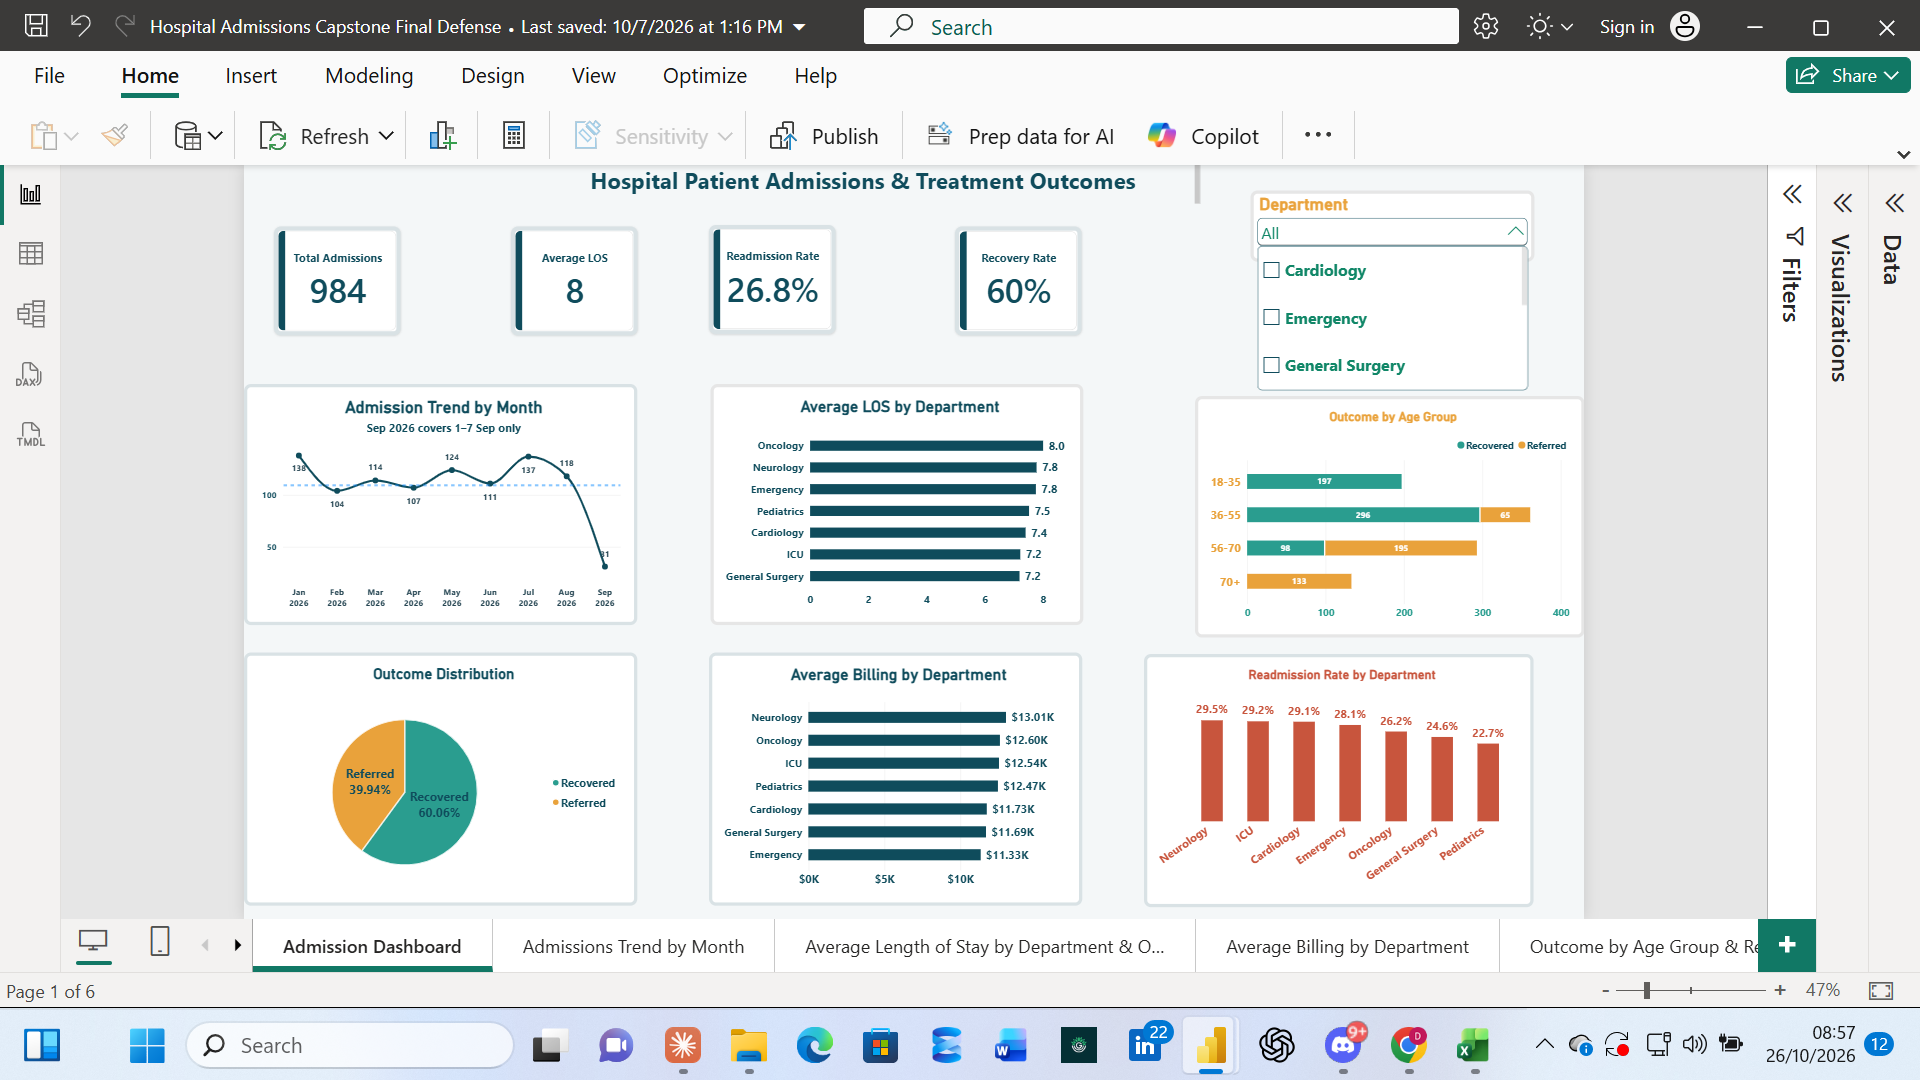

Layout of this report page (visuals, bound fields, positions):
{"tool":"powerbi","page":{"name":"Admission Dashboard","canvas":[1920,1080],"ordinal":0},"visuals":[{"type":"textbox","box":[410.4,0,959.1,66.8],"z":0},{"type":"cardVisual","fields":{"Data":["PatientData.Total_Admissions"]},"box":[43.2,88.6,181.4,155.9],"z":1000},{"type":"cardVisual","fields":{"Data":["PatientData.Average_LOS"]},"box":[381.6,88.6,181.4,155.9],"z":2000},{"type":"cardVisual","fields":{"Data":["PatientData.Recovery_Rate"]},"box":[1017.5,88.6,181.4,155.9],"z":3000},{"type":"lineChart","title":"Admission Trend  by Month","fields":{"Category":["Calendar.Month Year"],"Y":["PatientData.Total_Admissions"]},"box":[0,313.7,563.3,345.2],"z":4000},{"type":"clusteredBarChart","title":"Average LOS by Department","fields":{"Category":["PatientData.Department"],"Y":["PatientData.Average_LOS"]},"box":[668.2,313.7,533.8,345.2],"z":5000},{"type":"pieChart","title":"Outcome Distribution","fields":{"Category":["PatientData.Outcome"],"Y":["PatientData.Total_Admissions"]},"box":[0,699.1,563.1,362.7],"z":6000},{"type":"clusteredBarChart","title":"Average Billing by Department","fields":{"Category":["PatientData.Department"],"Y":["PatientData.Average_Billing"]},"box":[665.7,699.1,534.4,362.7],"z":7000},{"type":"barChart","title":"Outcome by Age Group","fields":{"Category":["PatientData.Age Group"],"Series":["PatientData.Outcome"],"Y":["PatientData.Total_Admissions"]},"box":[1362.8,331.6,558.3,346],"z":8000},{"type":"slicer","fields":{"Values":["PatientData.Department"]},"box":[1441.7,36.5,406.6,102.2],"z":9000},{"type":"clusteredColumnChart","title":"Readmission Rate by Department","fields":{"Category":["PatientData.Department"],"Y":["PatientData.Readmission_Rate"]},"box":[1290.1,699.6,558.3,362.7],"z":10000},{"type":"cardVisual","fields":{"Data":["PatientData.Readmission_Rate"]},"box":[665.5,86.3,181.4,155.9],"z":11000}]}

Visuals, with their boxes on the page's 1920x1080 design canvas (x1, y1, x2, y2). These are canvas units, not pixel positions in the 1920x1080 screenshot, which may show the page scaled, cropped or inside an application window:
textbox: 410, 0, 1370, 67
cardVisual - PatientData.Total_Admissions: 43, 89, 225, 244
cardVisual - PatientData.Average_LOS: 382, 89, 563, 244
cardVisual - PatientData.Recovery_Rate: 1018, 89, 1199, 244
"Admission Trend  by Month" lineChart: 0, 314, 563, 659
"Average LOS by Department" clusteredBarChart: 668, 314, 1202, 659
"Outcome Distribution" pieChart: 0, 699, 563, 1062
"Average Billing by Department" clusteredBarChart: 666, 699, 1200, 1062
"Outcome by Age Group" barChart: 1363, 332, 1921, 678
slicer - PatientData.Department: 1442, 36, 1848, 139
"Readmission Rate by Department" clusteredColumnChart: 1290, 700, 1848, 1062
cardVisual - PatientData.Readmission_Rate: 666, 86, 847, 242
